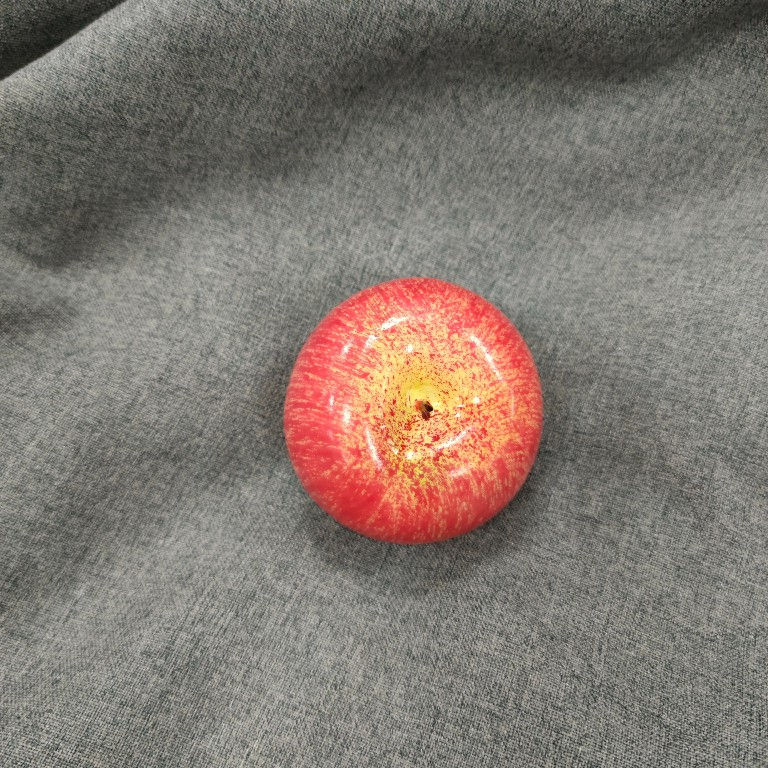fruit_apple: (277, 273, 548, 550)
